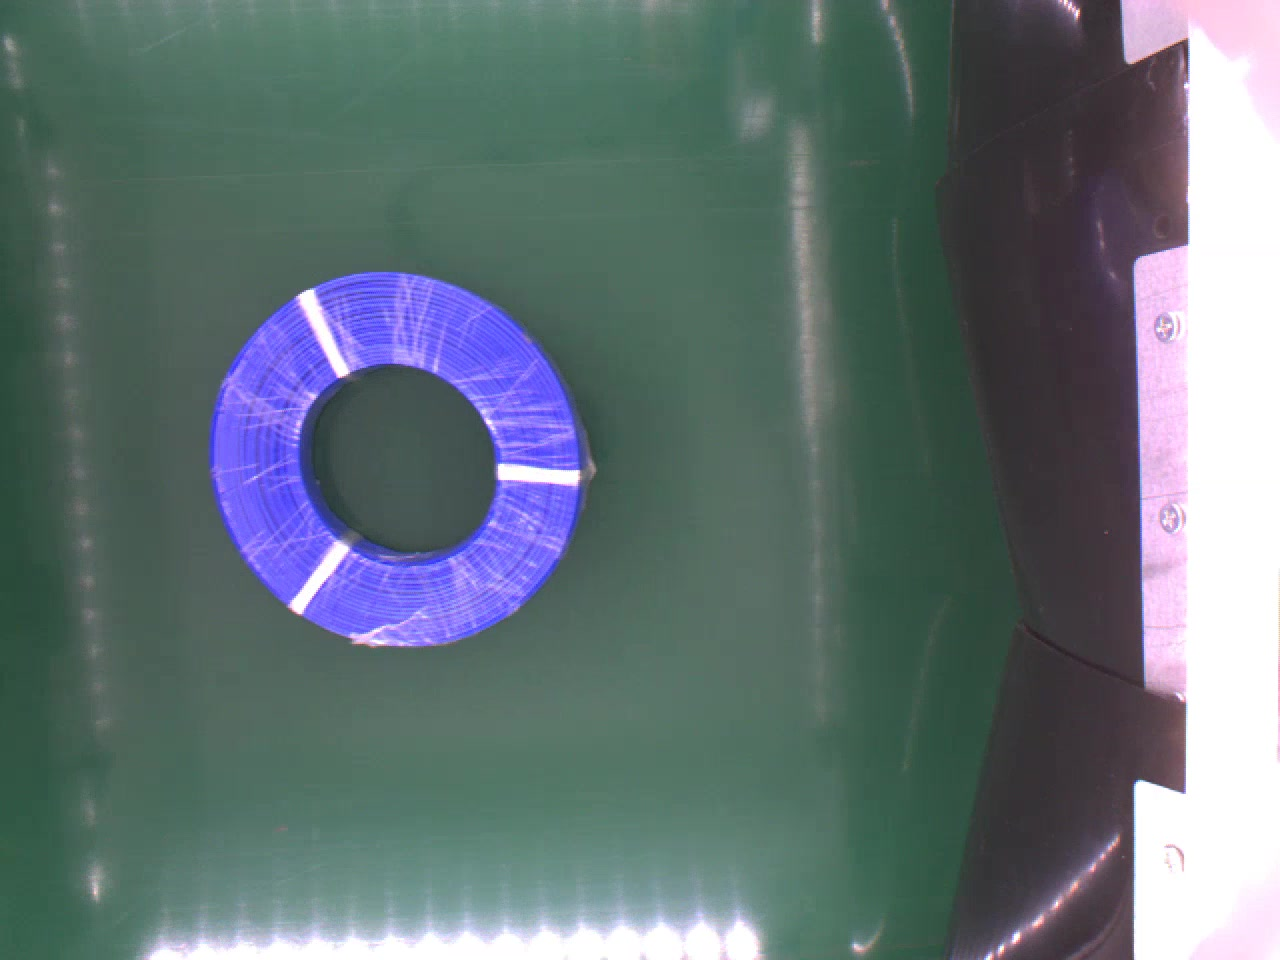blue: (209, 272, 593, 648)
